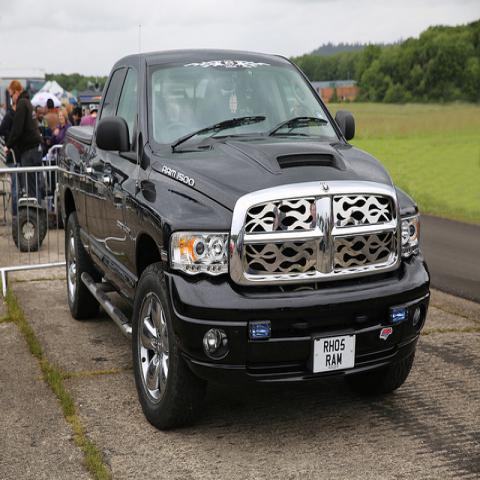truck: (61, 50, 429, 432)
